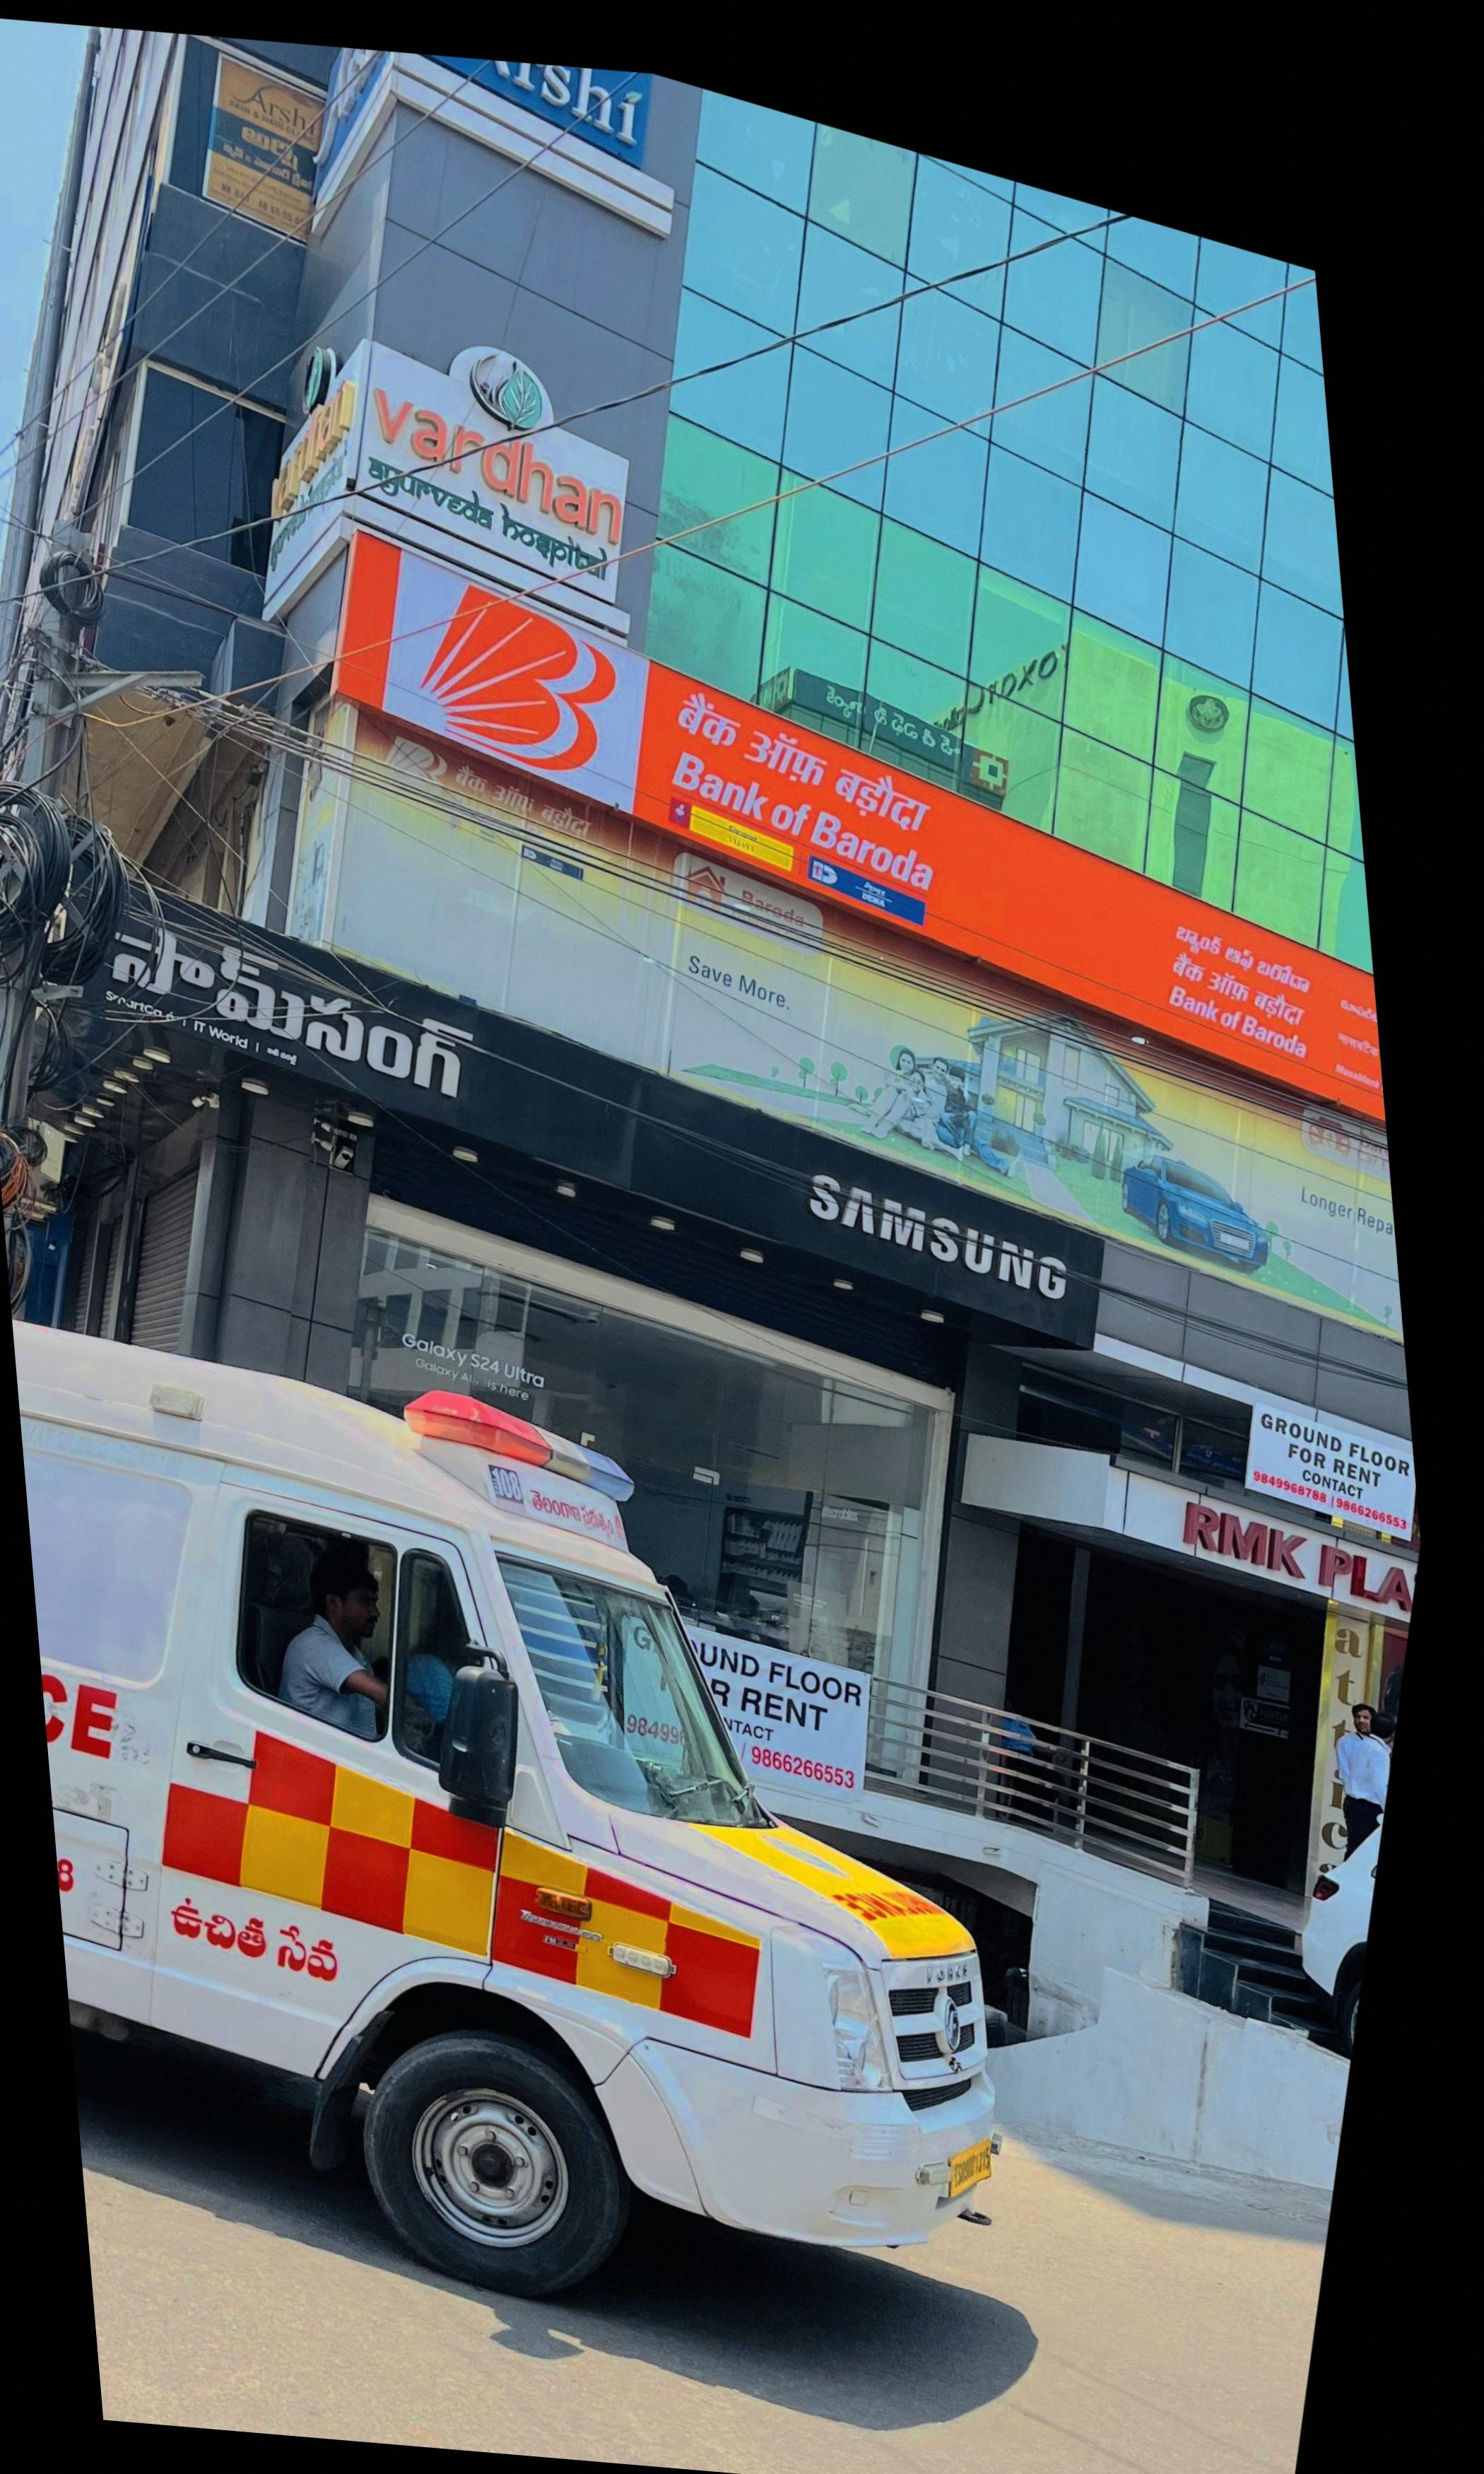ambulance: (14, 1324, 998, 2303)
